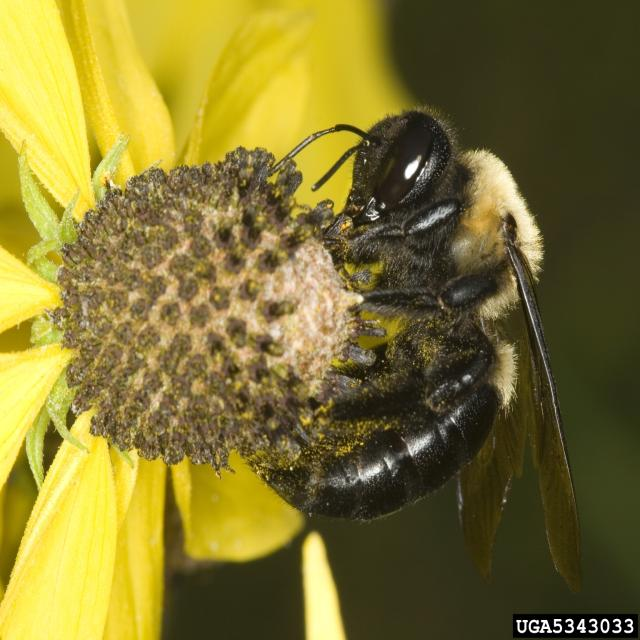Xylocopa: (268, 92, 597, 594)
